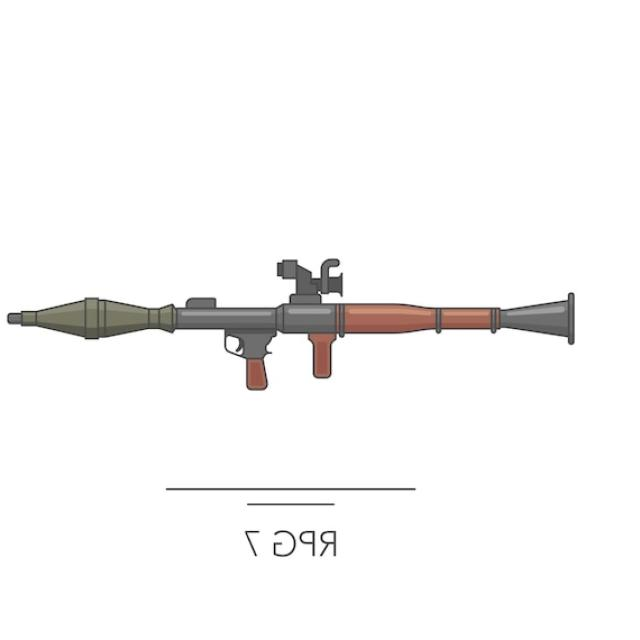Gun: (6, 205, 590, 446)
